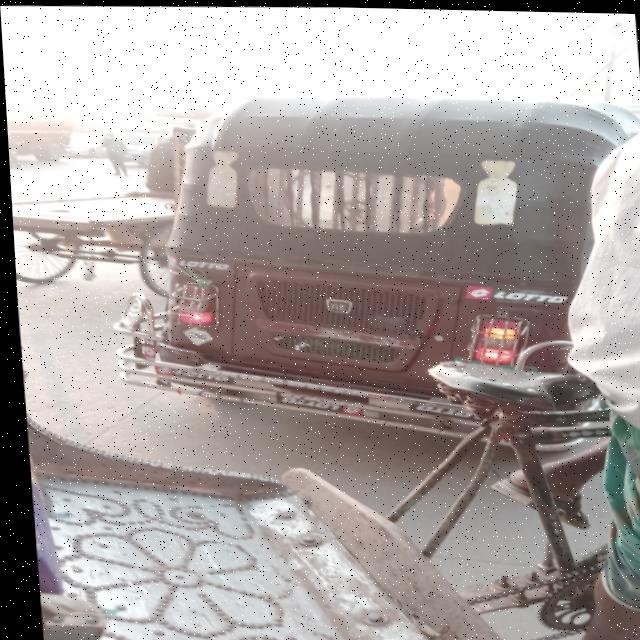cng: (119, 44, 640, 479)
